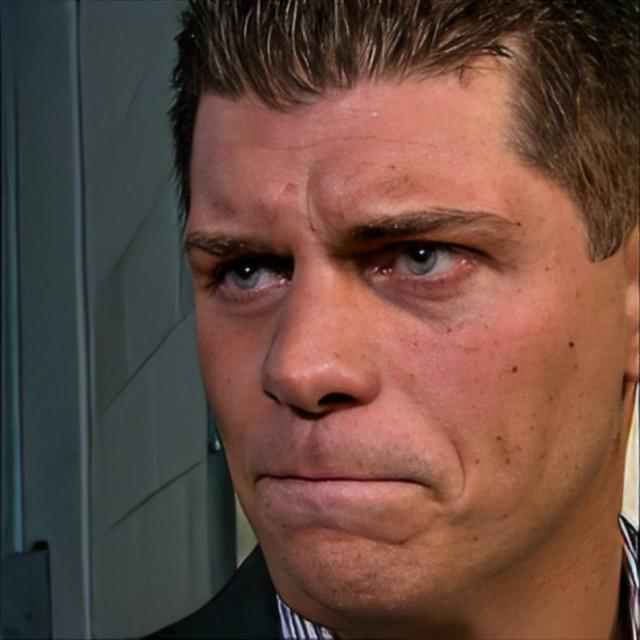anger: (192, 54, 620, 622)
